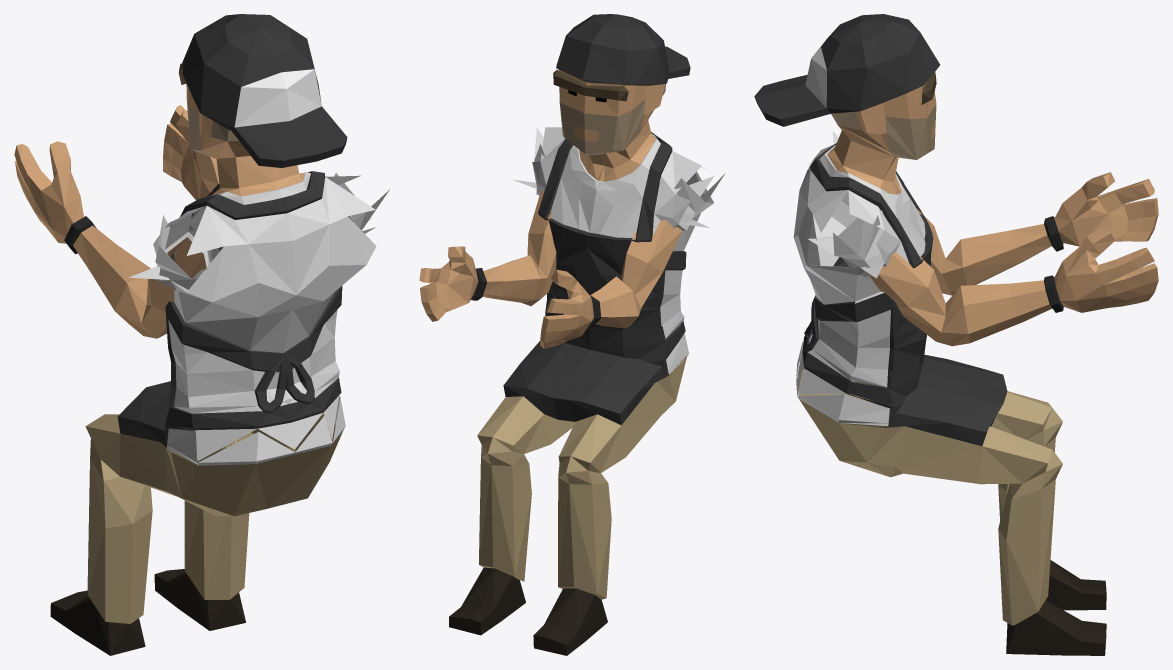
File: Cop_driving.obj
The picture shows the model from 3 angles, left to right: view 1: azimuth 30°, elevation 25°; view 2: azimuth 150°, elevation 25°; view 3: azimuth 270°, elevation 25°; orthographic projection. The views are drawn at different scales.
Visible parts, largest first — view 1: Cop_driving; view 2: Cop_driving; view 3: Cop_driving.
Boxes of the visible parts, box(x1,y1,x2,y2) form: Cop_driving: box(14, 14, 389, 655); Cop_driving: box(419, 14, 725, 655); Cop_driving: box(754, 14, 1158, 655).
Size of the model in its own units: 0.5658 by 1.49 by 0.9028.
1 material, 1 textured.
